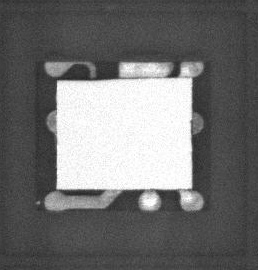DIE_INK: (35, 199, 41, 206)
